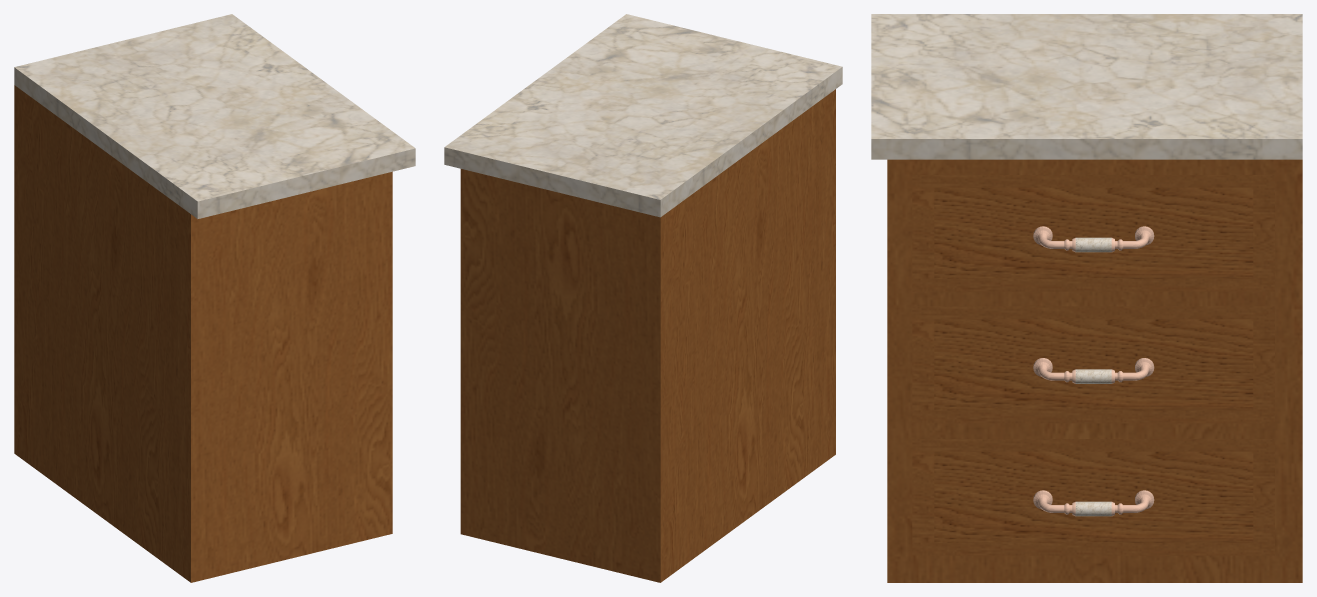
The model's file is Cabinet_End.fbx.
3 renders of one model, left to right at view 1: azimuth 30°, elevation 25°; view 2: azimuth 150°, elevation 25°; view 3: azimuth 270°, elevation 25°, orthographic. The views are drawn at different scales.
Visible parts, largest first — view 1: Cabinet_Shelf1, Cover_edge; view 2: Cabinet_Shelf1, Cover_edge; view 3: Cover_edge, Cabinet_Shelf1, pCube182, pCube23, pCube183, pCylinder98, pCylinder5, pCylinder97.
Part boxes in pixels (x1=…): Cabinet_Shelf1: x1=14, y1=85, x2=392, y2=582; Cover_edge: x1=14, y1=14, x2=415, y2=218; Cabinet_Shelf1: x1=460, y1=89, x2=835, y2=582; Cover_edge: x1=444, y1=14, x2=842, y2=217; Cover_edge: x1=871, y1=14, x2=1302, y2=159; Cabinet_Shelf1: x1=887, y1=159, x2=1302, y2=582; pCube182: x1=912, y1=306, x2=1274, y2=423; pCube23: x1=912, y1=175, x2=1274, y2=291; pCube183: x1=912, y1=439, x2=1274, y2=555; pCylinder98: x1=1033, y1=490, x2=1154, y2=516; pCylinder5: x1=1033, y1=226, x2=1154, y2=252; pCylinder97: x1=1033, y1=358, x2=1154, y2=383.
Size of the model in its own units: 0.618 by 1 by 0.8636.
